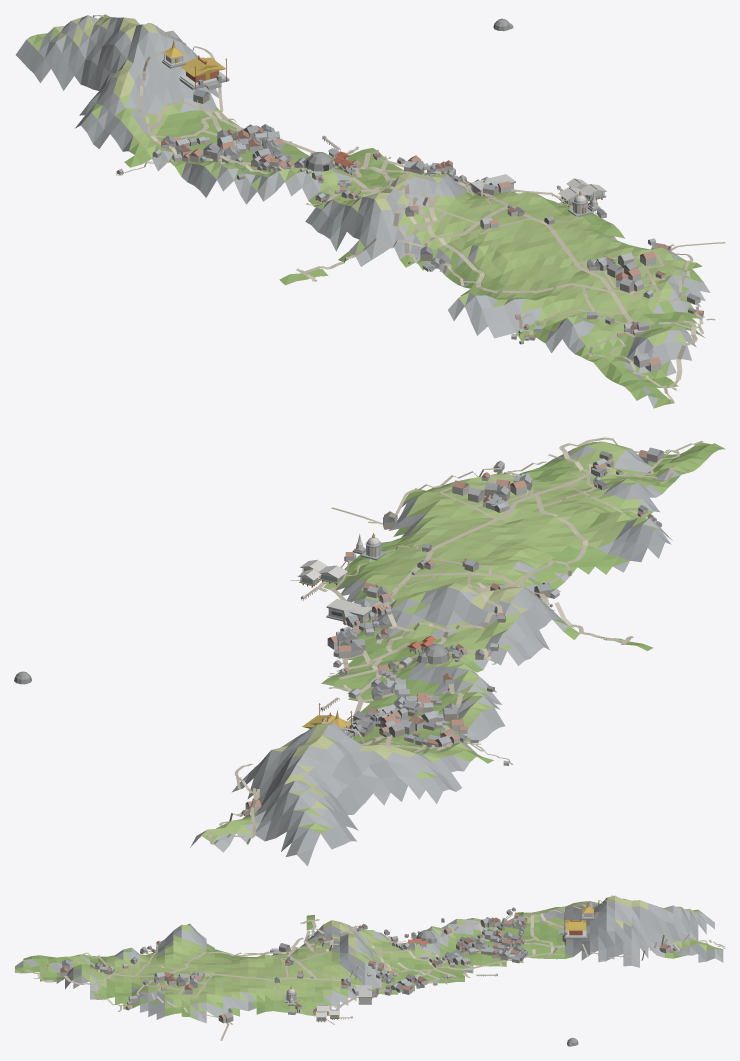
File: koh-sichang.glb
3 views of the same model, one above another, from view 1: azimuth 30°, elevation 25°; view 2: azimuth 150°, elevation 25°; view 3: azimuth 270°, elevation 25° (orthographic). The views are drawn at different scales.
Parts seen in each view (by area): view 1: koh-sichang-blockout; view 2: koh-sichang-blockout; view 3: koh-sichang-blockout.
Boxes of the visible parts, x1,y1,x2,y2 form: koh-sichang-blockout: (16,14,725,408); koh-sichang-blockout: (14,437,725,866); koh-sichang-blockout: (14,895,725,1046).
Bounding box in the file's own units: 2871 × 477 × 5976.
